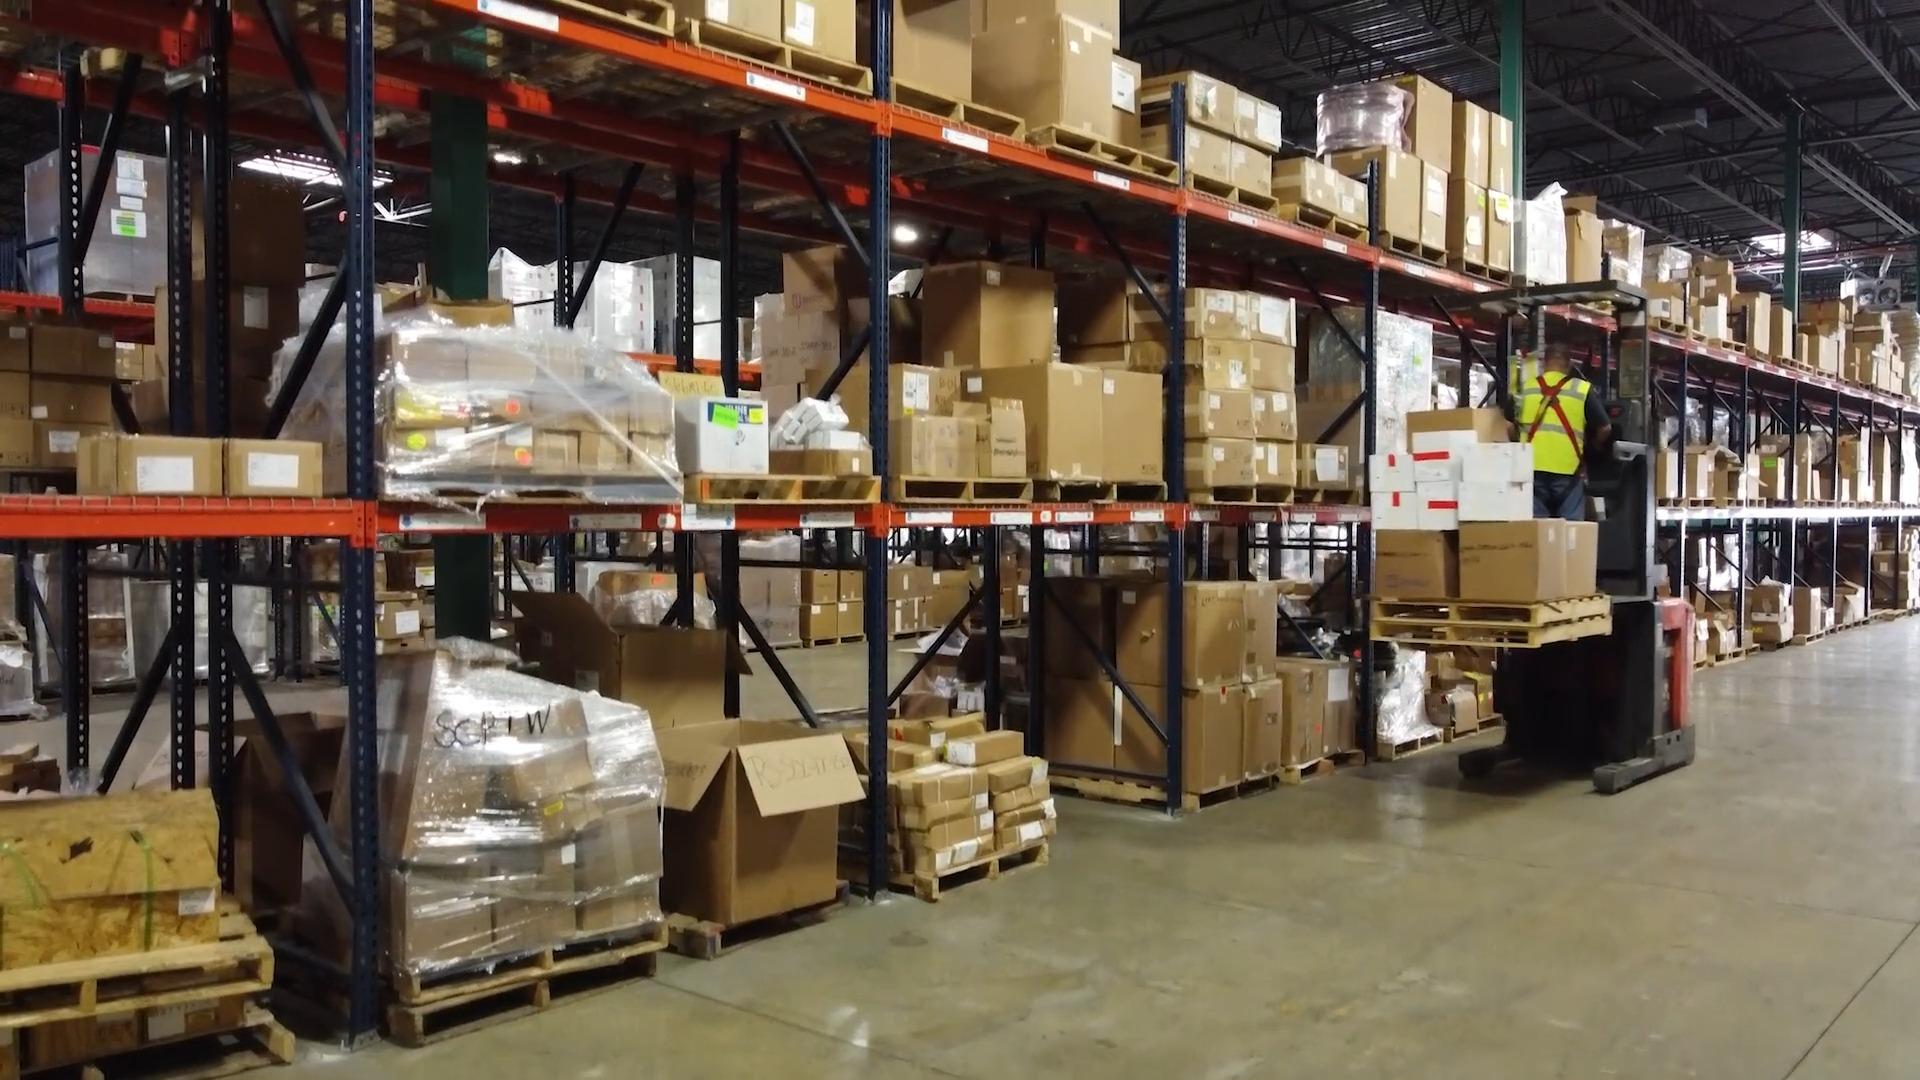-: (661, 719, 864, 923), (514, 583, 725, 716), (965, 0, 1118, 142), (756, 293, 899, 415), (485, 249, 651, 349), (961, 365, 1098, 475), (924, 258, 1059, 365), (1116, 580, 1241, 692), (1114, 683, 1238, 789), (1146, 73, 1282, 152), (628, 251, 720, 351), (1455, 517, 1564, 601), (1142, 124, 1274, 193), (76, 434, 222, 496), (803, 363, 961, 417), (1042, 576, 1117, 682), (679, 393, 769, 471), (1098, 371, 1163, 476), (1280, 156, 1371, 225), (29, 322, 121, 390), (1134, 289, 1251, 342), (224, 438, 330, 496), (1457, 440, 1531, 522), (1133, 340, 1251, 390), (1042, 679, 1117, 754), (953, 400, 1027, 475), (1403, 74, 1458, 169), (890, 418, 978, 477), (1377, 531, 1451, 595), (38, 406, 112, 468), (783, 247, 870, 294), (1279, 662, 1319, 766), (1520, 202, 1569, 284), (1245, 679, 1280, 781), (1320, 661, 1356, 758), (1244, 582, 1278, 682), (33, 377, 108, 421), (1185, 392, 1254, 439), (1762, 435, 1811, 500), (1411, 431, 1472, 481), (1185, 440, 1257, 483), (1563, 520, 1598, 597), (1299, 440, 1352, 492), (1383, 158, 1419, 233), (1250, 339, 1298, 393), (1453, 179, 1486, 257), (1461, 100, 1489, 187), (1751, 584, 1792, 640), (1251, 295, 1295, 347), (1422, 164, 1449, 244), (1733, 291, 1771, 349), (1571, 212, 1602, 280), (1419, 483, 1461, 530), (1257, 394, 1299, 439), (1257, 442, 1298, 487), (1669, 269, 1704, 322), (1487, 190, 1511, 265), (1491, 112, 1514, 191), (1371, 492, 1419, 529), (1370, 451, 1415, 489), (1685, 446, 1716, 496), (1648, 282, 1684, 322), (800, 603, 837, 637), (1702, 273, 1737, 310), (800, 570, 836, 604), (1795, 587, 1821, 633), (1605, 225, 1640, 258), (1808, 335, 1837, 375), (1772, 303, 1792, 356), (1658, 451, 1679, 497), (1801, 301, 1846, 322), (887, 566, 915, 597), (1760, 454, 1780, 497), (1702, 303, 1727, 338), (887, 599, 915, 629), (839, 603, 864, 634), (839, 570, 862, 601), (914, 567, 934, 596), (1841, 442, 1861, 469), (916, 599, 931, 628)
